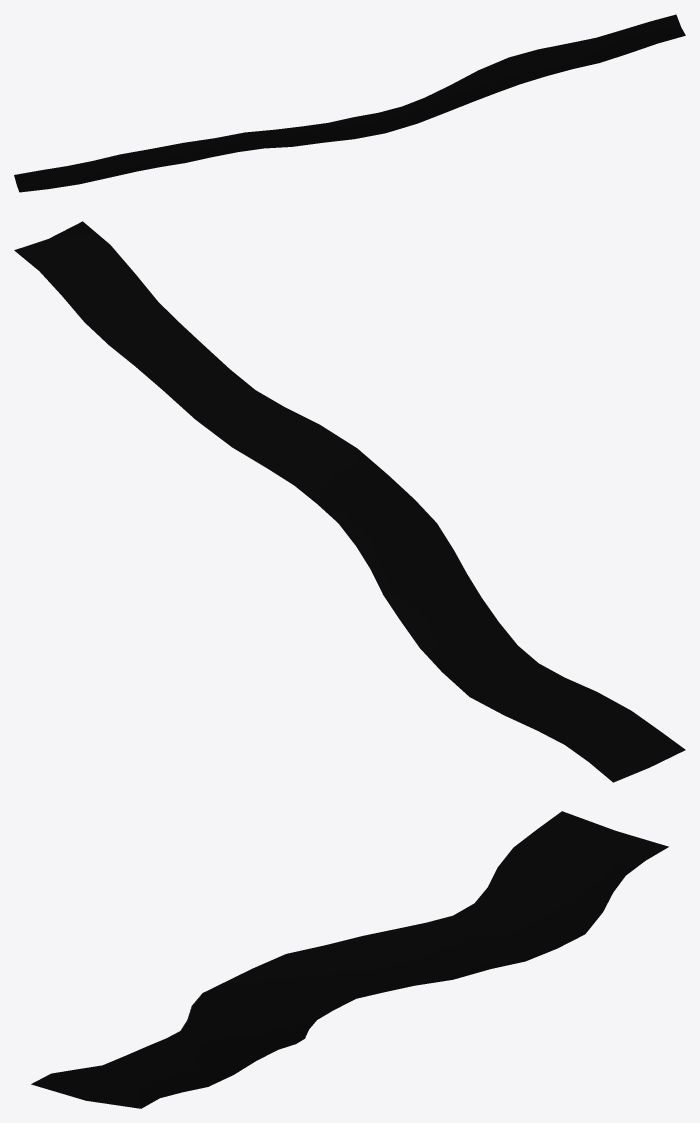
File: Tide_GenerateSurfaceDecal_87C2BA1D_0_FlowDecal_SmallMesh_Mesh_x10_y5_165_0_ATLAS.fbx
3 renders of one model, top to bottom at view 1: azimuth 30°, elevation 25°; view 2: azimuth 150°, elevation 25°; view 3: azimuth 270°, elevation 25°, orthographic. The views are drawn at different scales.
Visible parts, largest first — view 1: Tide_GenerateSurfaceDecal_87C2BA1D_0_FlowDecal_SmallMesh_Mes; view 2: Tide_GenerateSurfaceDecal_87C2BA1D_0_FlowDecal_SmallMesh_Mes; view 3: Tide_GenerateSurfaceDecal_87C2BA1D_0_FlowDecal_SmallMesh_Mes.
Part boxes in pixels (<box>): Tide_GenerateSurfaceDecal_87C2BA1D_0_FlowDecal_SmallMesh_Mes: <box>14,14,685,192</box>; Tide_GenerateSurfaceDecal_87C2BA1D_0_FlowDecal_SmallMesh_Mes: <box>14,221,685,782</box>; Tide_GenerateSurfaceDecal_87C2BA1D_0_FlowDecal_SmallMesh_Mes: <box>31,811,668,1108</box>.
Size of the model in its own units: 2156 by 1081 by 490.
